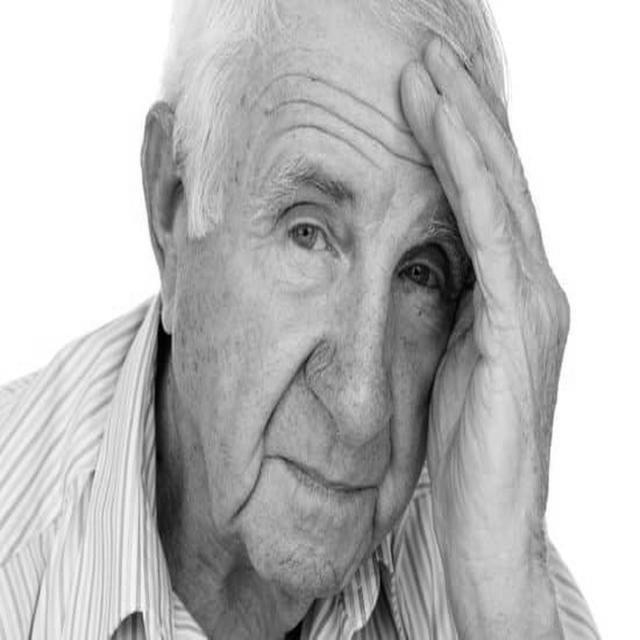Sadness: (229, 31, 448, 592)
